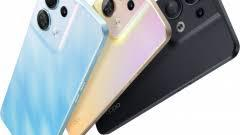Smartphone: (89, 0, 233, 135), (49, 2, 167, 134), (0, 8, 104, 135)
